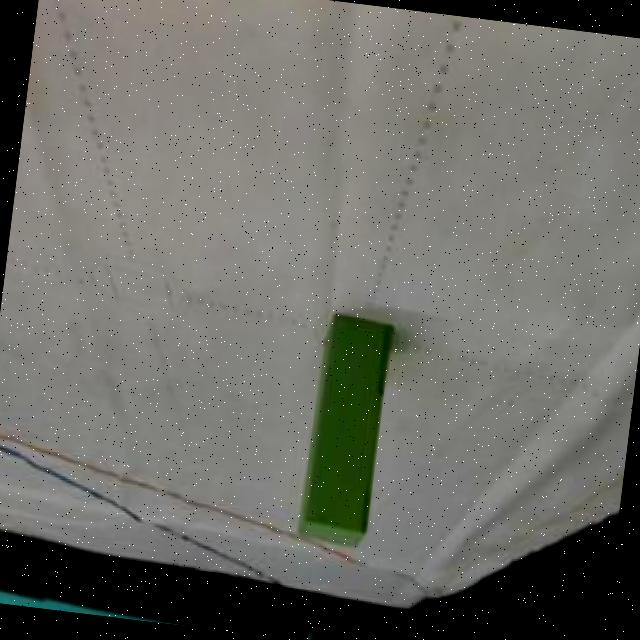greenbox: (290, 306, 400, 556)
